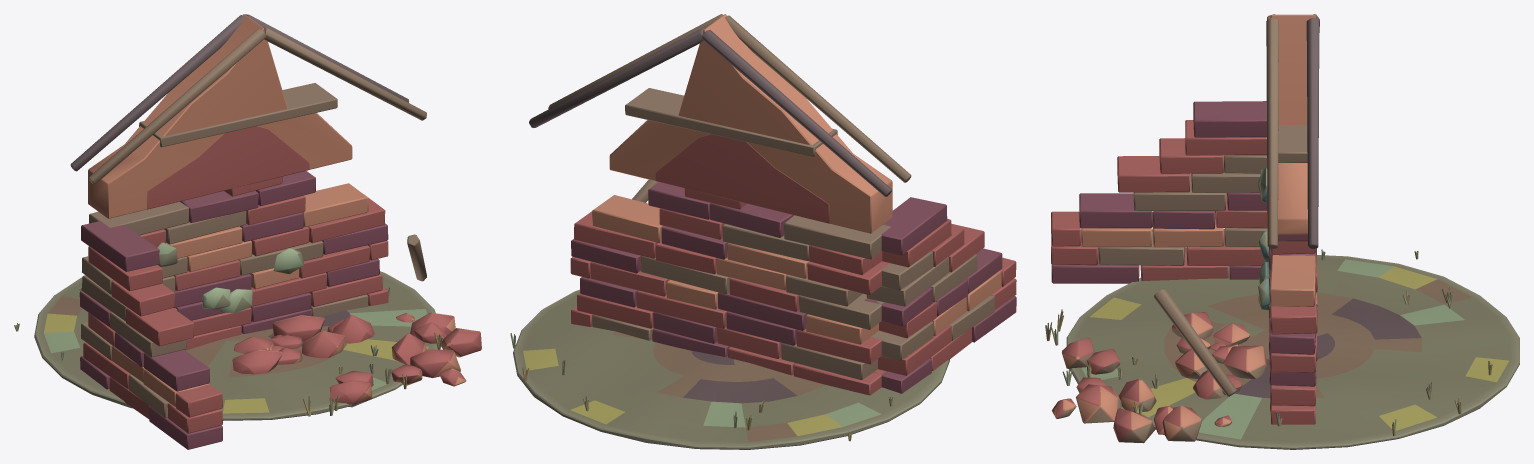
The model's file is ruined_masonry_v2.glb.
3 views of the same model, side by side, from view 1: azimuth 30°, elevation 25°; view 2: azimuth 150°, elevation 25°; view 3: azimuth 270°, elevation 25° (orthographic). The views are drawn at different scales.
Parts seen in each view (by area): view 1: Body; view 2: Body; view 3: Body.
Part boxes in pixels (<box>): Body: <box>14,14,481,449</box>; Body: <box>510,14,1016,449</box>; Body: <box>1045,14,1519,449</box>.
Size of the model in its own units: 0.6831 by 0.5848 by 0.7056.
